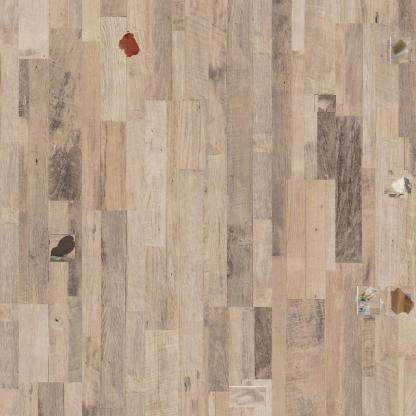dirty: (385, 287, 415, 316), (233, 382, 262, 412), (355, 287, 382, 314), (389, 38, 413, 63), (386, 172, 410, 196), (314, 94, 336, 112)
liquid: (48, 234, 76, 262), (116, 31, 140, 57)
